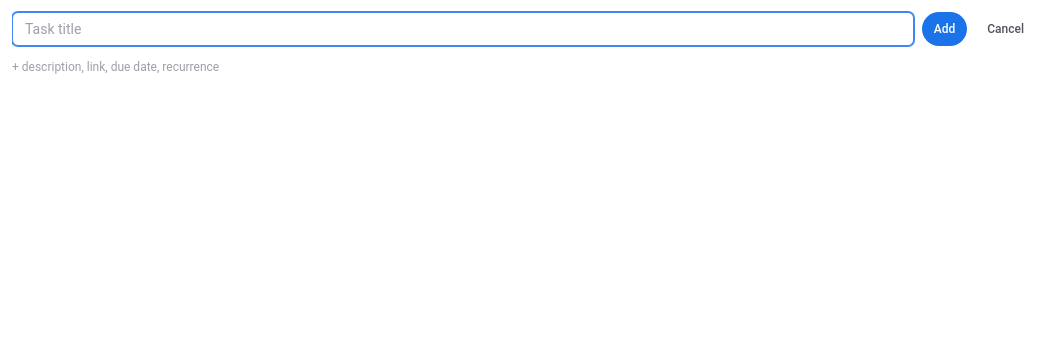
AddLinkForm inside the task forms › InlineTaskForm: Enter in the URL field adds the link, not the task
The image size is (1048, 355).
Type "Task two" into the text box with placeholder "Task title" at (463, 29), box [12, 12, 914, 46]
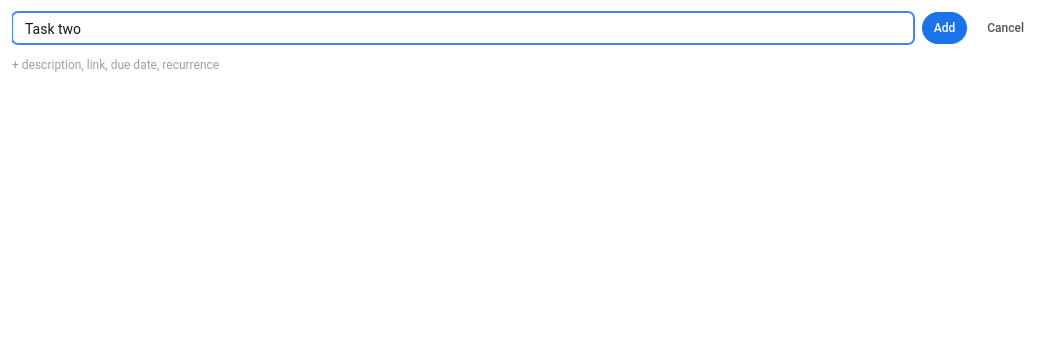
Click the button "+ description, link, due date, recurrence" at (116, 65), box [12, 57, 219, 73]
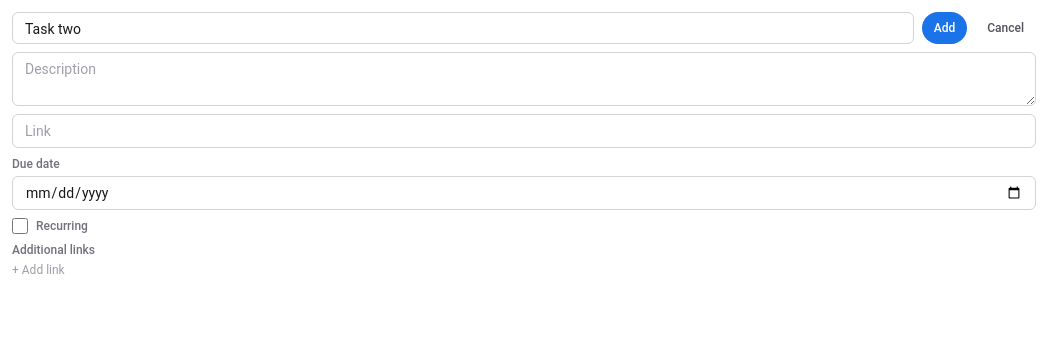
Click the button "+ Add link" at (38, 270), box [12, 262, 1036, 278]
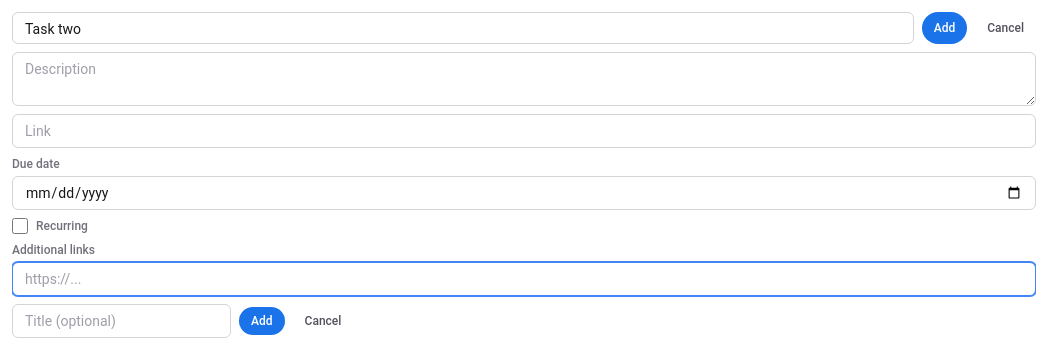
Type "https://example.com/enter" into the field with placeholder "https://..." at (524, 279), box [12, 262, 1036, 296]
Then press Enter
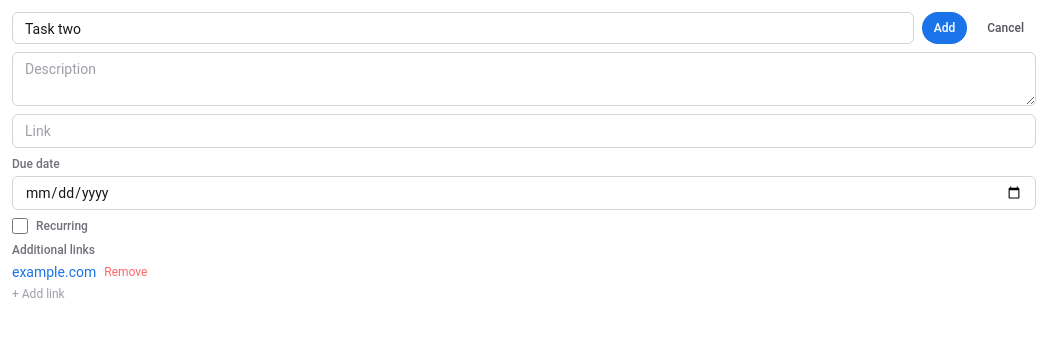
expect the link "example.com" is shown: met, box [12, 262, 96, 282]
expect the field with placeholder "https://..." is gone: met
